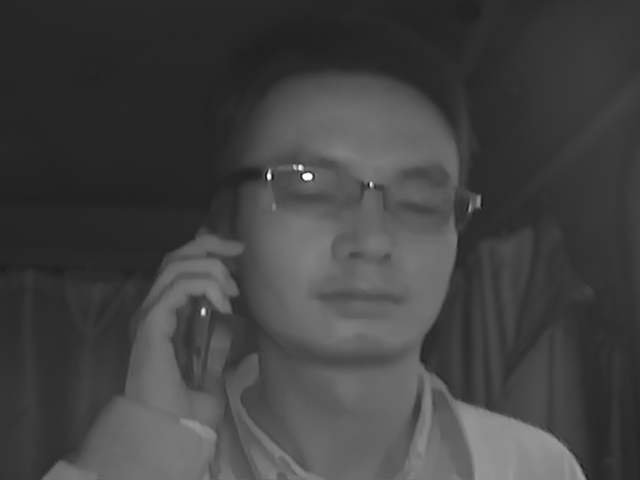hand: (121, 233, 247, 419)
